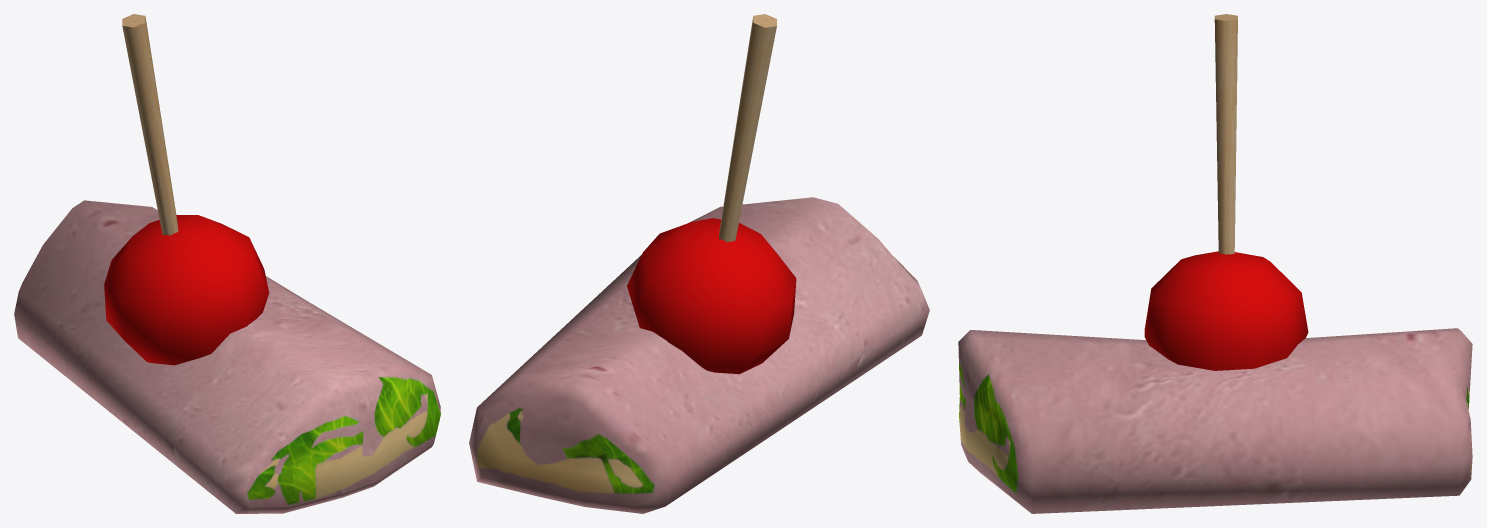
Rendered from BuffetSnacks02_5.FBX.
3 views of the same model, side by side, from view 1: azimuth 30°, elevation 25°; view 2: azimuth 150°, elevation 25°; view 3: azimuth 270°, elevation 25° (orthographic). The views are drawn at different scales.
Parts seen in each view (by area): view 1: BuffetSnacks02_5; view 2: BuffetSnacks02_5; view 3: BuffetSnacks02_5.
Boxes of the visible parts, <box> form: BuffetSnacks02_5: <box>14,14,440,513</box>; BuffetSnacks02_5: <box>469,14,929,513</box>; BuffetSnacks02_5: <box>958,14,1472,513</box>.
Size of what is drawn, in the model's own units: 0.0659 by 0.1054 by 0.1222.
